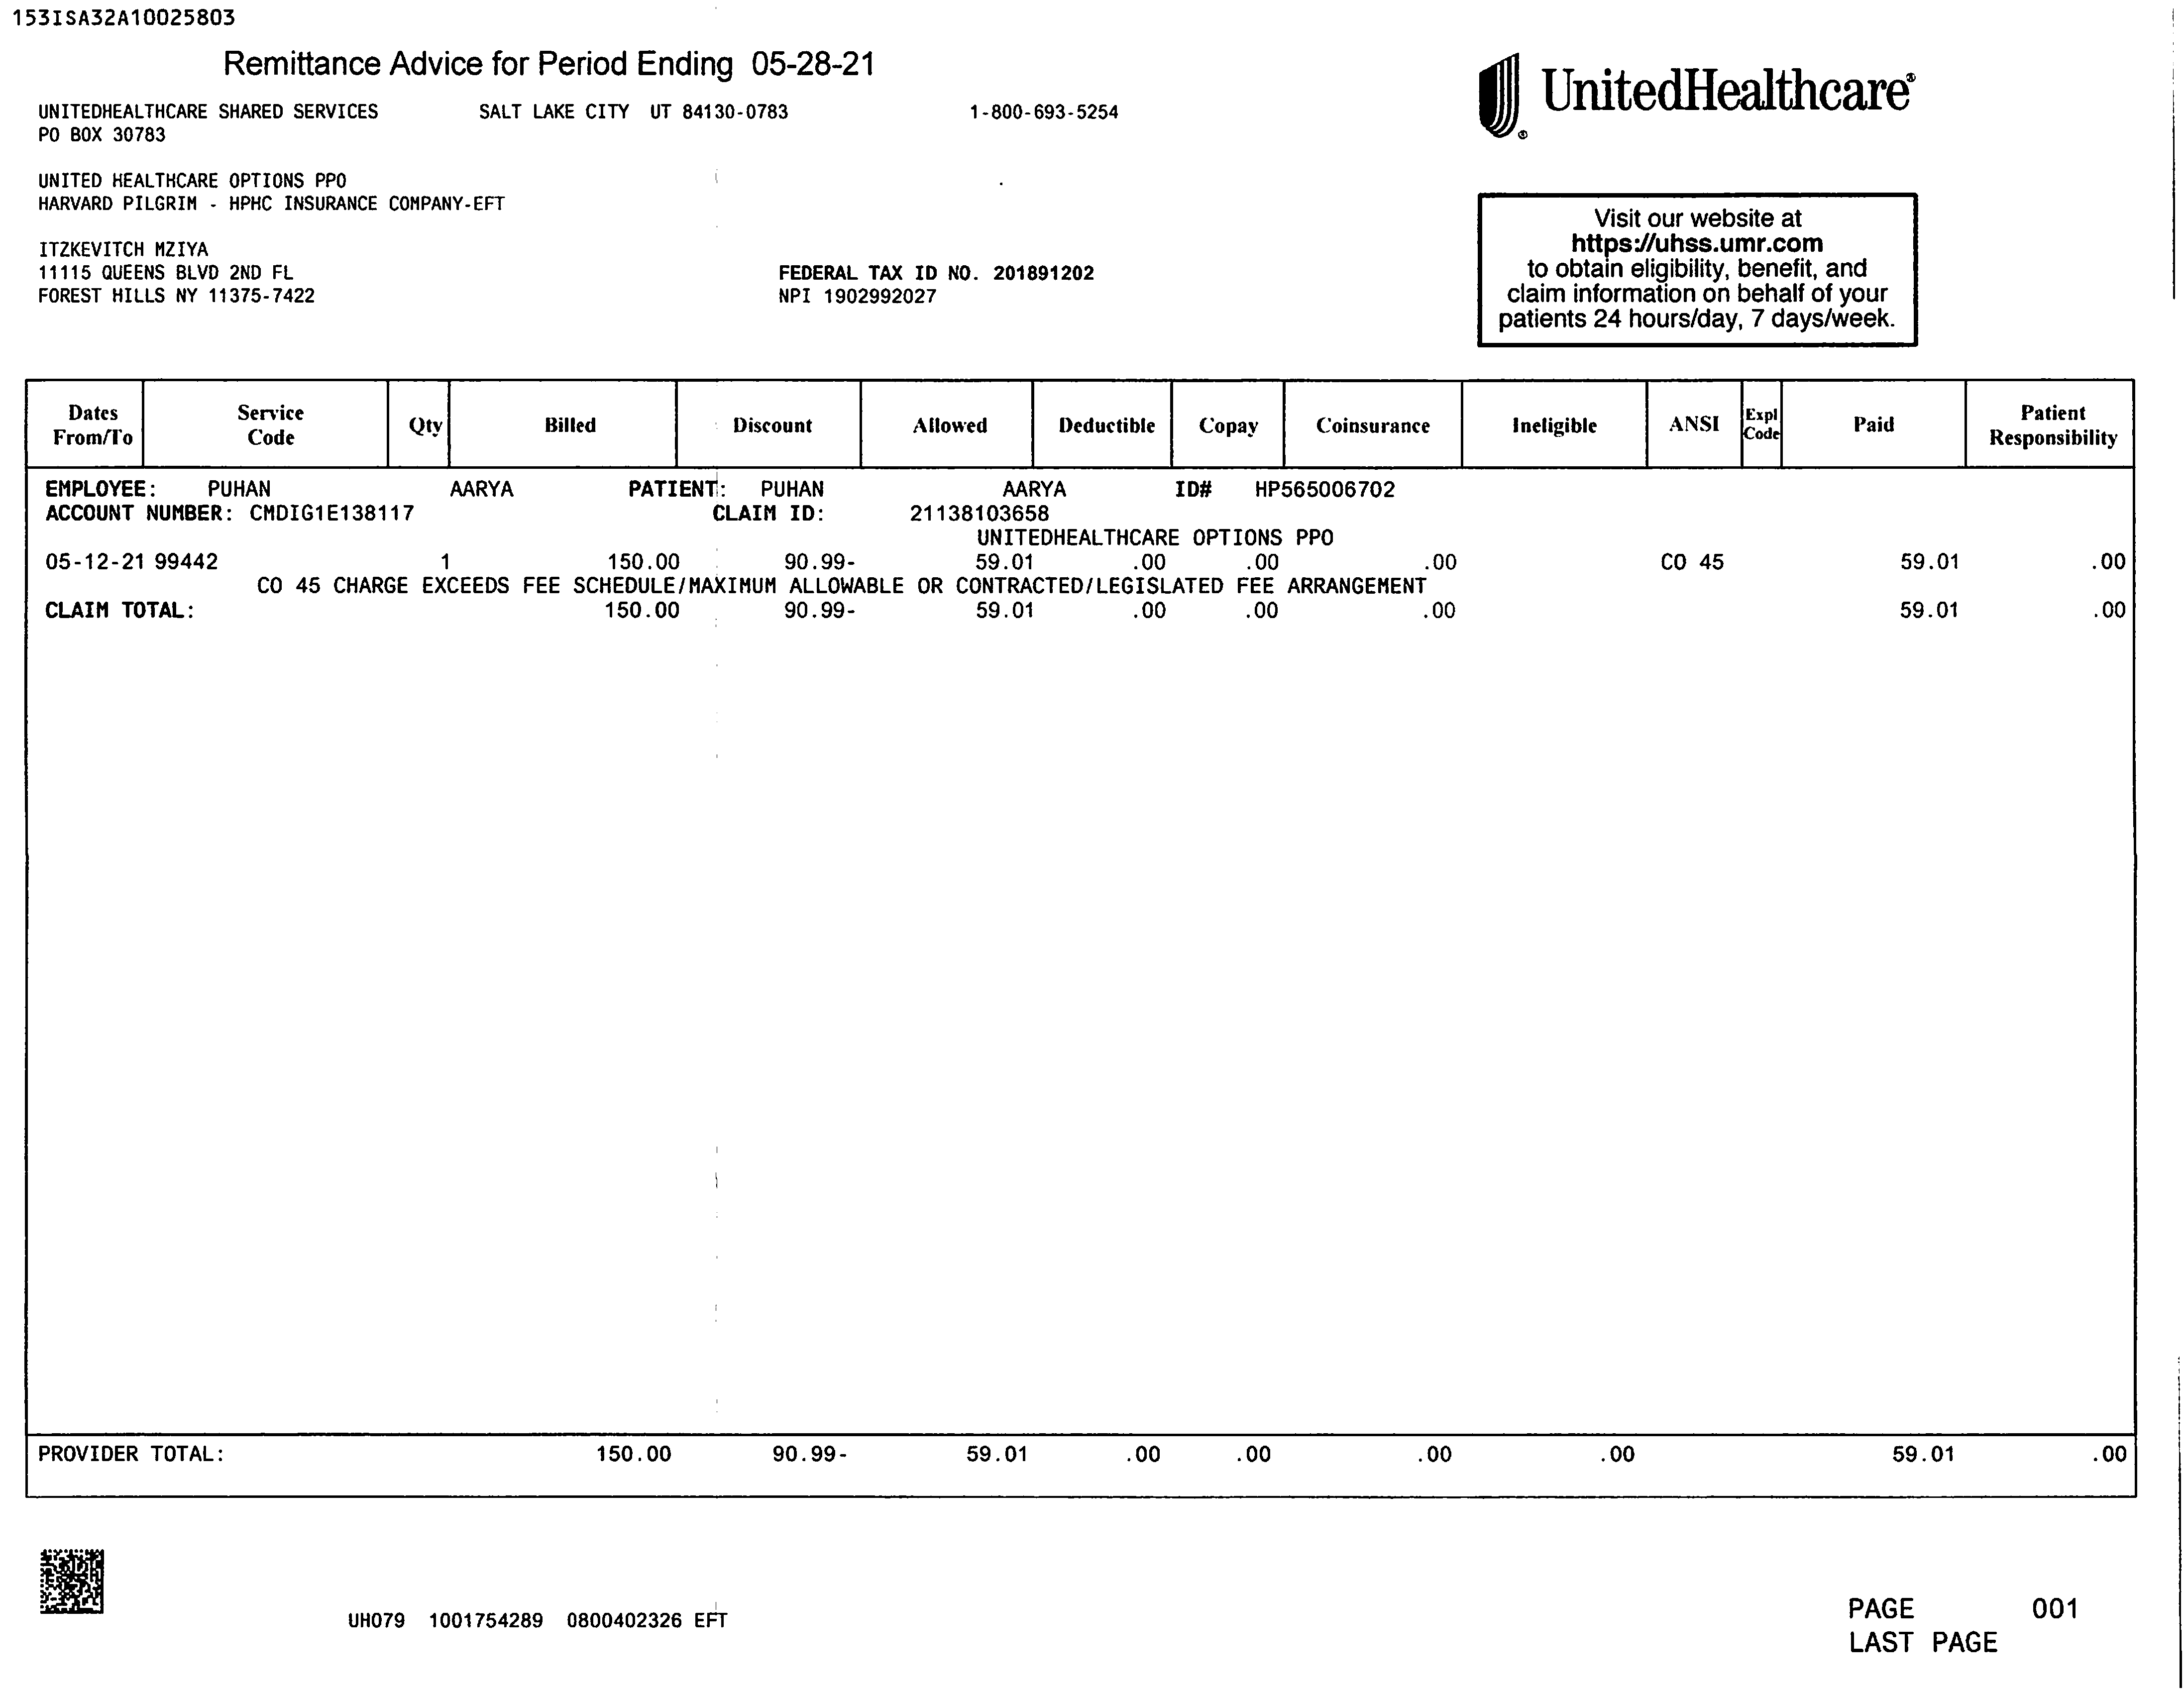data: (757, 243, 1108, 325)
table: (12, 367, 2150, 661)
